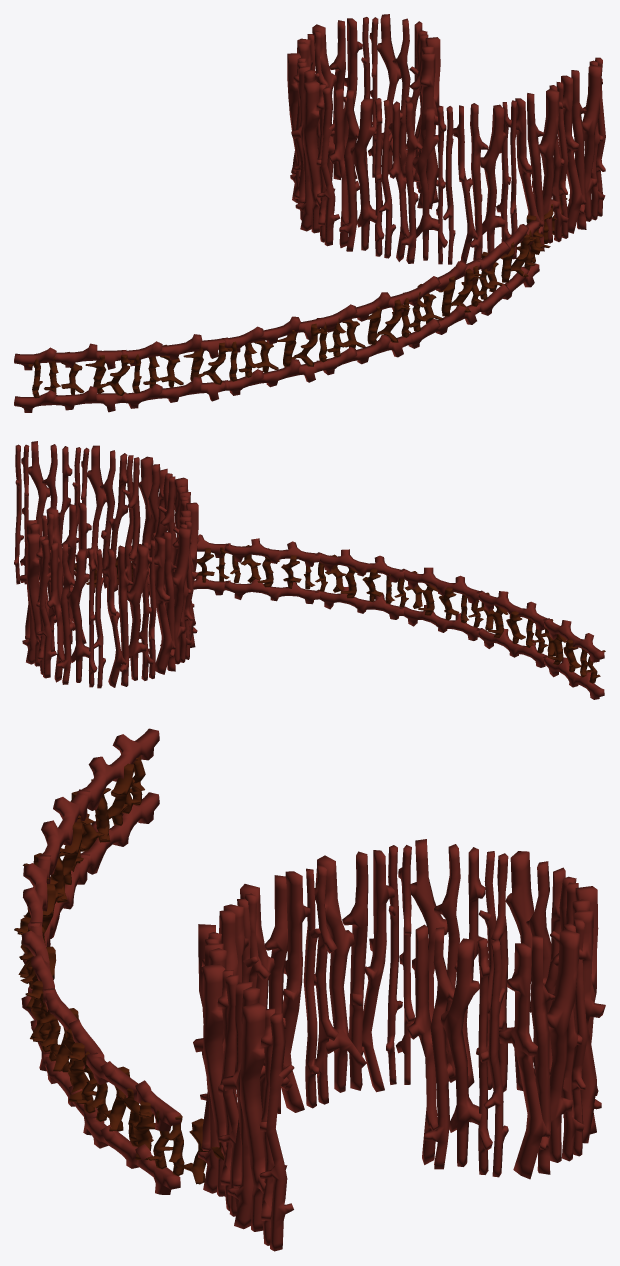
File: SticksLvl2.fbx
The picture shows the model from 3 angles, top to bottom: view 1: azimuth 30°, elevation 25°; view 2: azimuth 150°, elevation 25°; view 3: azimuth 270°, elevation 25°; orthographic projection. The views are drawn at different scales.
Parts seen in each view (by area): view 1: Stick.Lvl2, Stick.Lvl2.002, Stick.Lvl2.001; view 2: Stick.Lvl2, Stick.Lvl2.002, Stick.Lvl2.001; view 3: Stick.Lvl2, Stick.Lvl2.002, Stick.Lvl2.001.
Boxes of the visible parts, box(x1,y1,x2,y2) form: Stick.Lvl2: box(287, 14, 605, 264); Stick.Lvl2.002: box(14, 220, 539, 412); Stick.Lvl2.001: box(28, 196, 567, 398); Stick.Lvl2: box(14, 441, 198, 688); Stick.Lvl2.002: box(139, 534, 604, 699); Stick.Lvl2.001: box(74, 545, 605, 683); Stick.Lvl2: box(193, 839, 605, 1251); Stick.Lvl2.002: box(21, 728, 180, 1194); Stick.Lvl2.001: box(14, 753, 224, 1184).
Size of the model in its own units: 1295 by 344 by 704.
